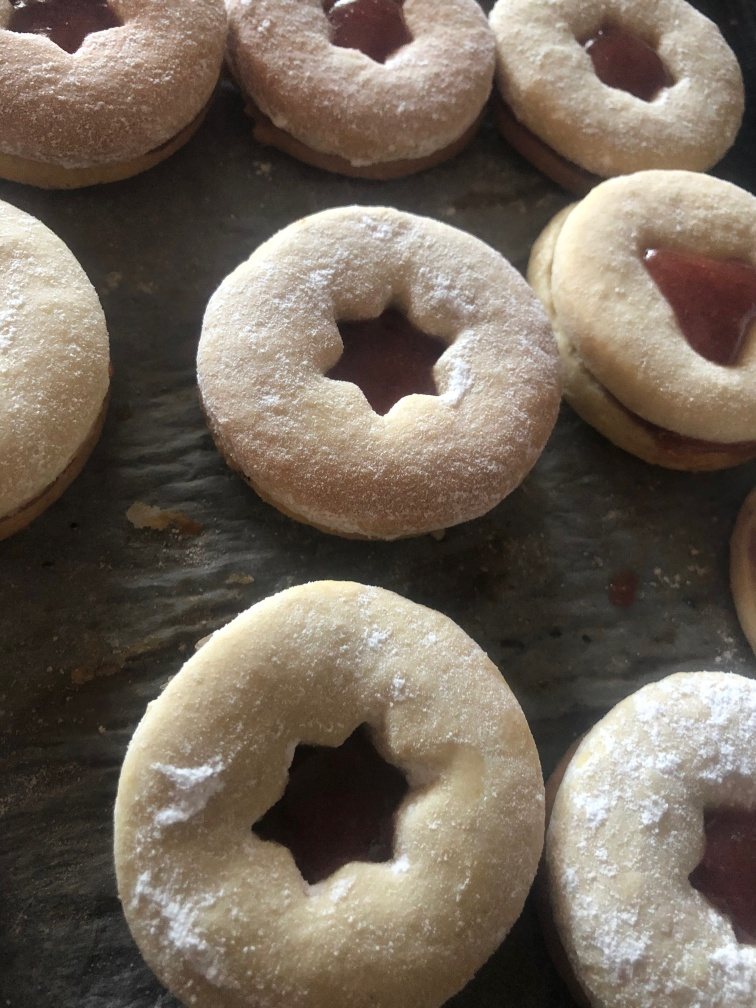christmas shortbread with jam: (114, 576, 543, 1007), (192, 202, 560, 541), (553, 670, 756, 1007), (535, 168, 756, 468), (224, 1, 491, 174), (1, 1, 230, 189), (495, 1, 742, 175)
